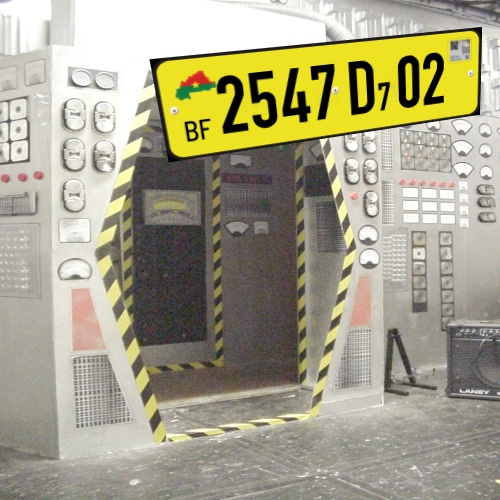plate: (127, 18, 494, 167)
